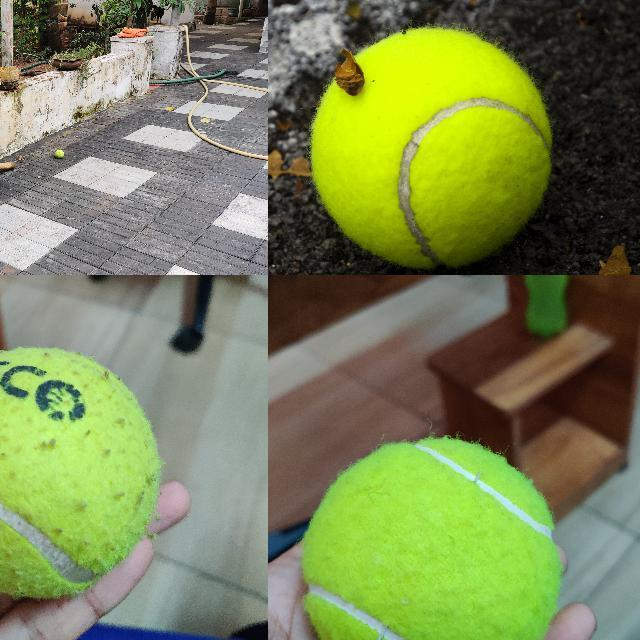tennis-ball: (309, 27, 552, 267), (302, 438, 561, 639), (0, 347, 161, 598), (55, 149, 64, 158)
